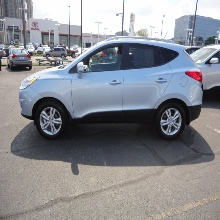no damage: (19, 36, 203, 143), (188, 45, 220, 102), (9, 46, 32, 68)
